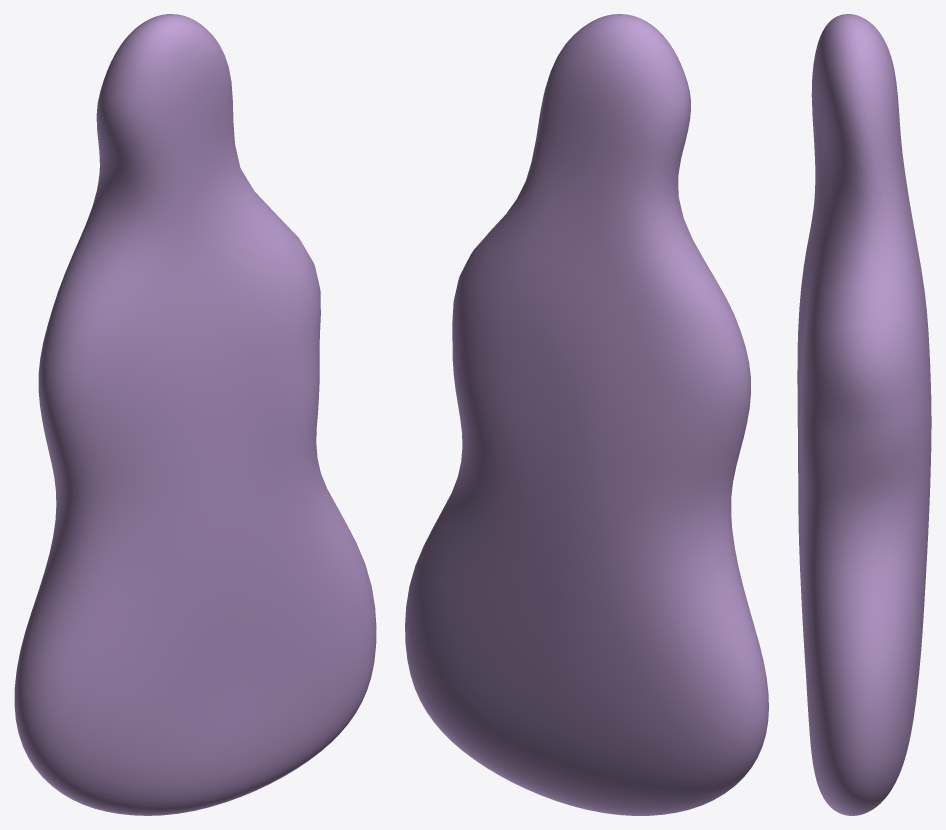
The model's file is stone_1.fbx.
3 renders of one model, left to right at view 1: azimuth 30°, elevation 25°; view 2: azimuth 150°, elevation 25°; view 3: azimuth 270°, elevation 25°, orthographic. The views are drawn at different scales.
Parts seen in each view (by area): view 1: Cube.005; view 2: Cube.005; view 3: Cube.005.
Part boxes in pixels (x1=…): Cube.005: x1=14, y1=14, x2=376, y2=815; Cube.005: x1=405, y1=14, x2=768, y2=815; Cube.005: x1=797, y1=14, x2=931, y2=815.
Bounding box in the file's own units: 248 × 534 × 85.86.
